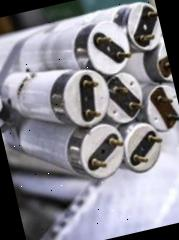lightbulb: (0, 0, 179, 201), (0, 51, 113, 145)
